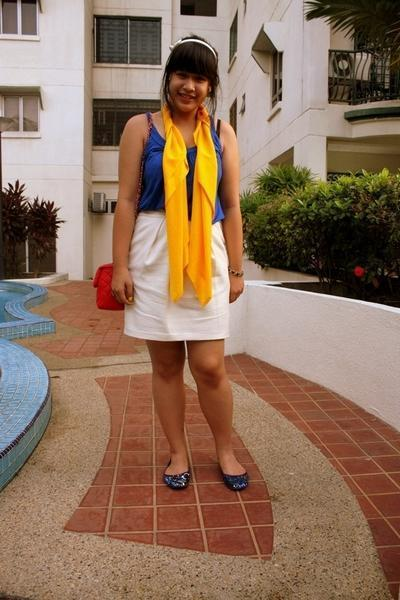bag: (93, 264, 129, 310)
shirt: (135, 108, 236, 227)
shoe: (162, 468, 248, 495)
skirt: (124, 212, 233, 346)
